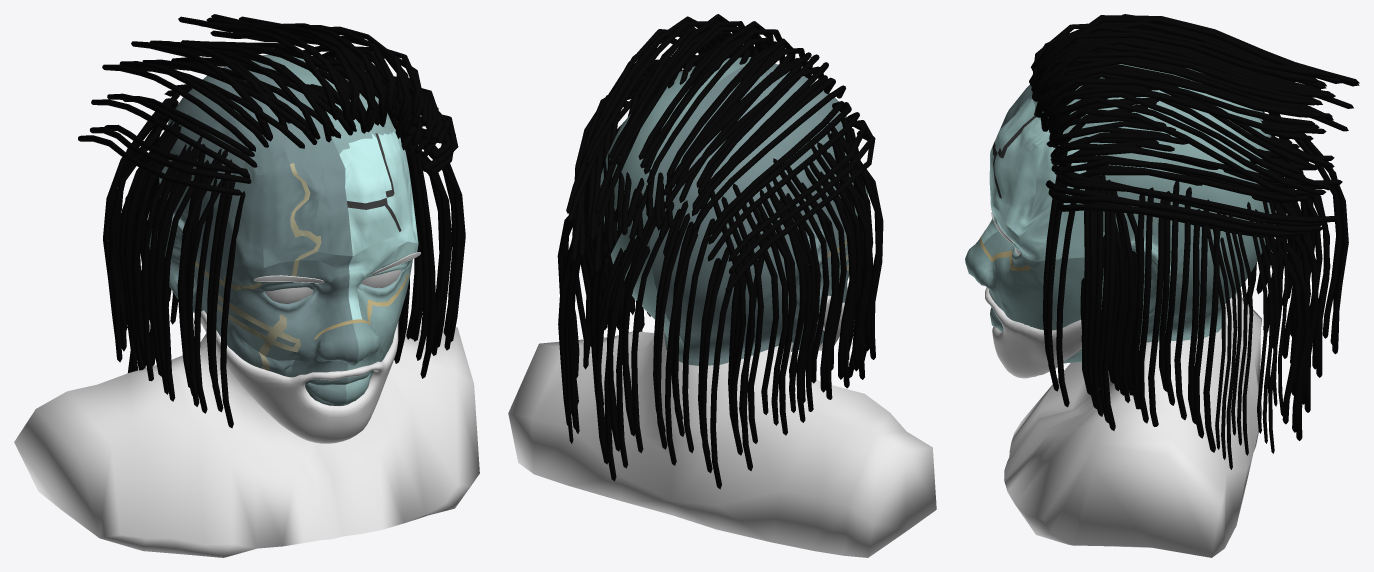
The picture shows the model from 3 angles, left to right: view 1: azimuth 30°, elevation 25°; view 2: azimuth 150°, elevation 25°; view 3: azimuth 270°, elevation 25°; orthographic projection. The views are drawn at different scales.
Parts seen in each view (by area): view 1: body, hair, leftside, lighterright, beard, rightside, leftsideundereye, lefttopline, eyebrows, lighterrighttop, eyeleft; view 2: hair, body, leftside, rightside; view 3: hair, body, rightside, lighterright, beard.
Part boxes in pixels (x1,y1,x2,y2): body: (14,327,479,557); hair: (78,14,465,428); leftside: (149,57,358,406); lighterright: (339,124,418,319); beard: (200,310,398,443); rightside: (262,54,412,405); leftsideundereye: (217,294,300,370); lefttopline: (290,163,321,276); eyebrows: (254,252,420,283); lighterrighttop: (347,133,401,231); eyeleft: (265,287,312,303); hair: (557,14,883,489); body: (508,330,936,557); leftside: (650,64,867,365); rightside: (600,57,751,362); hair: (1029,14,1359,469); body: (1004,292,1262,557); rightside: (965,64,1276,363); lighterright: (981,98,1087,261); beard: (985,287,1081,378).
Size of the model in its own units: 1.79 by 1.94 by 1.53.
